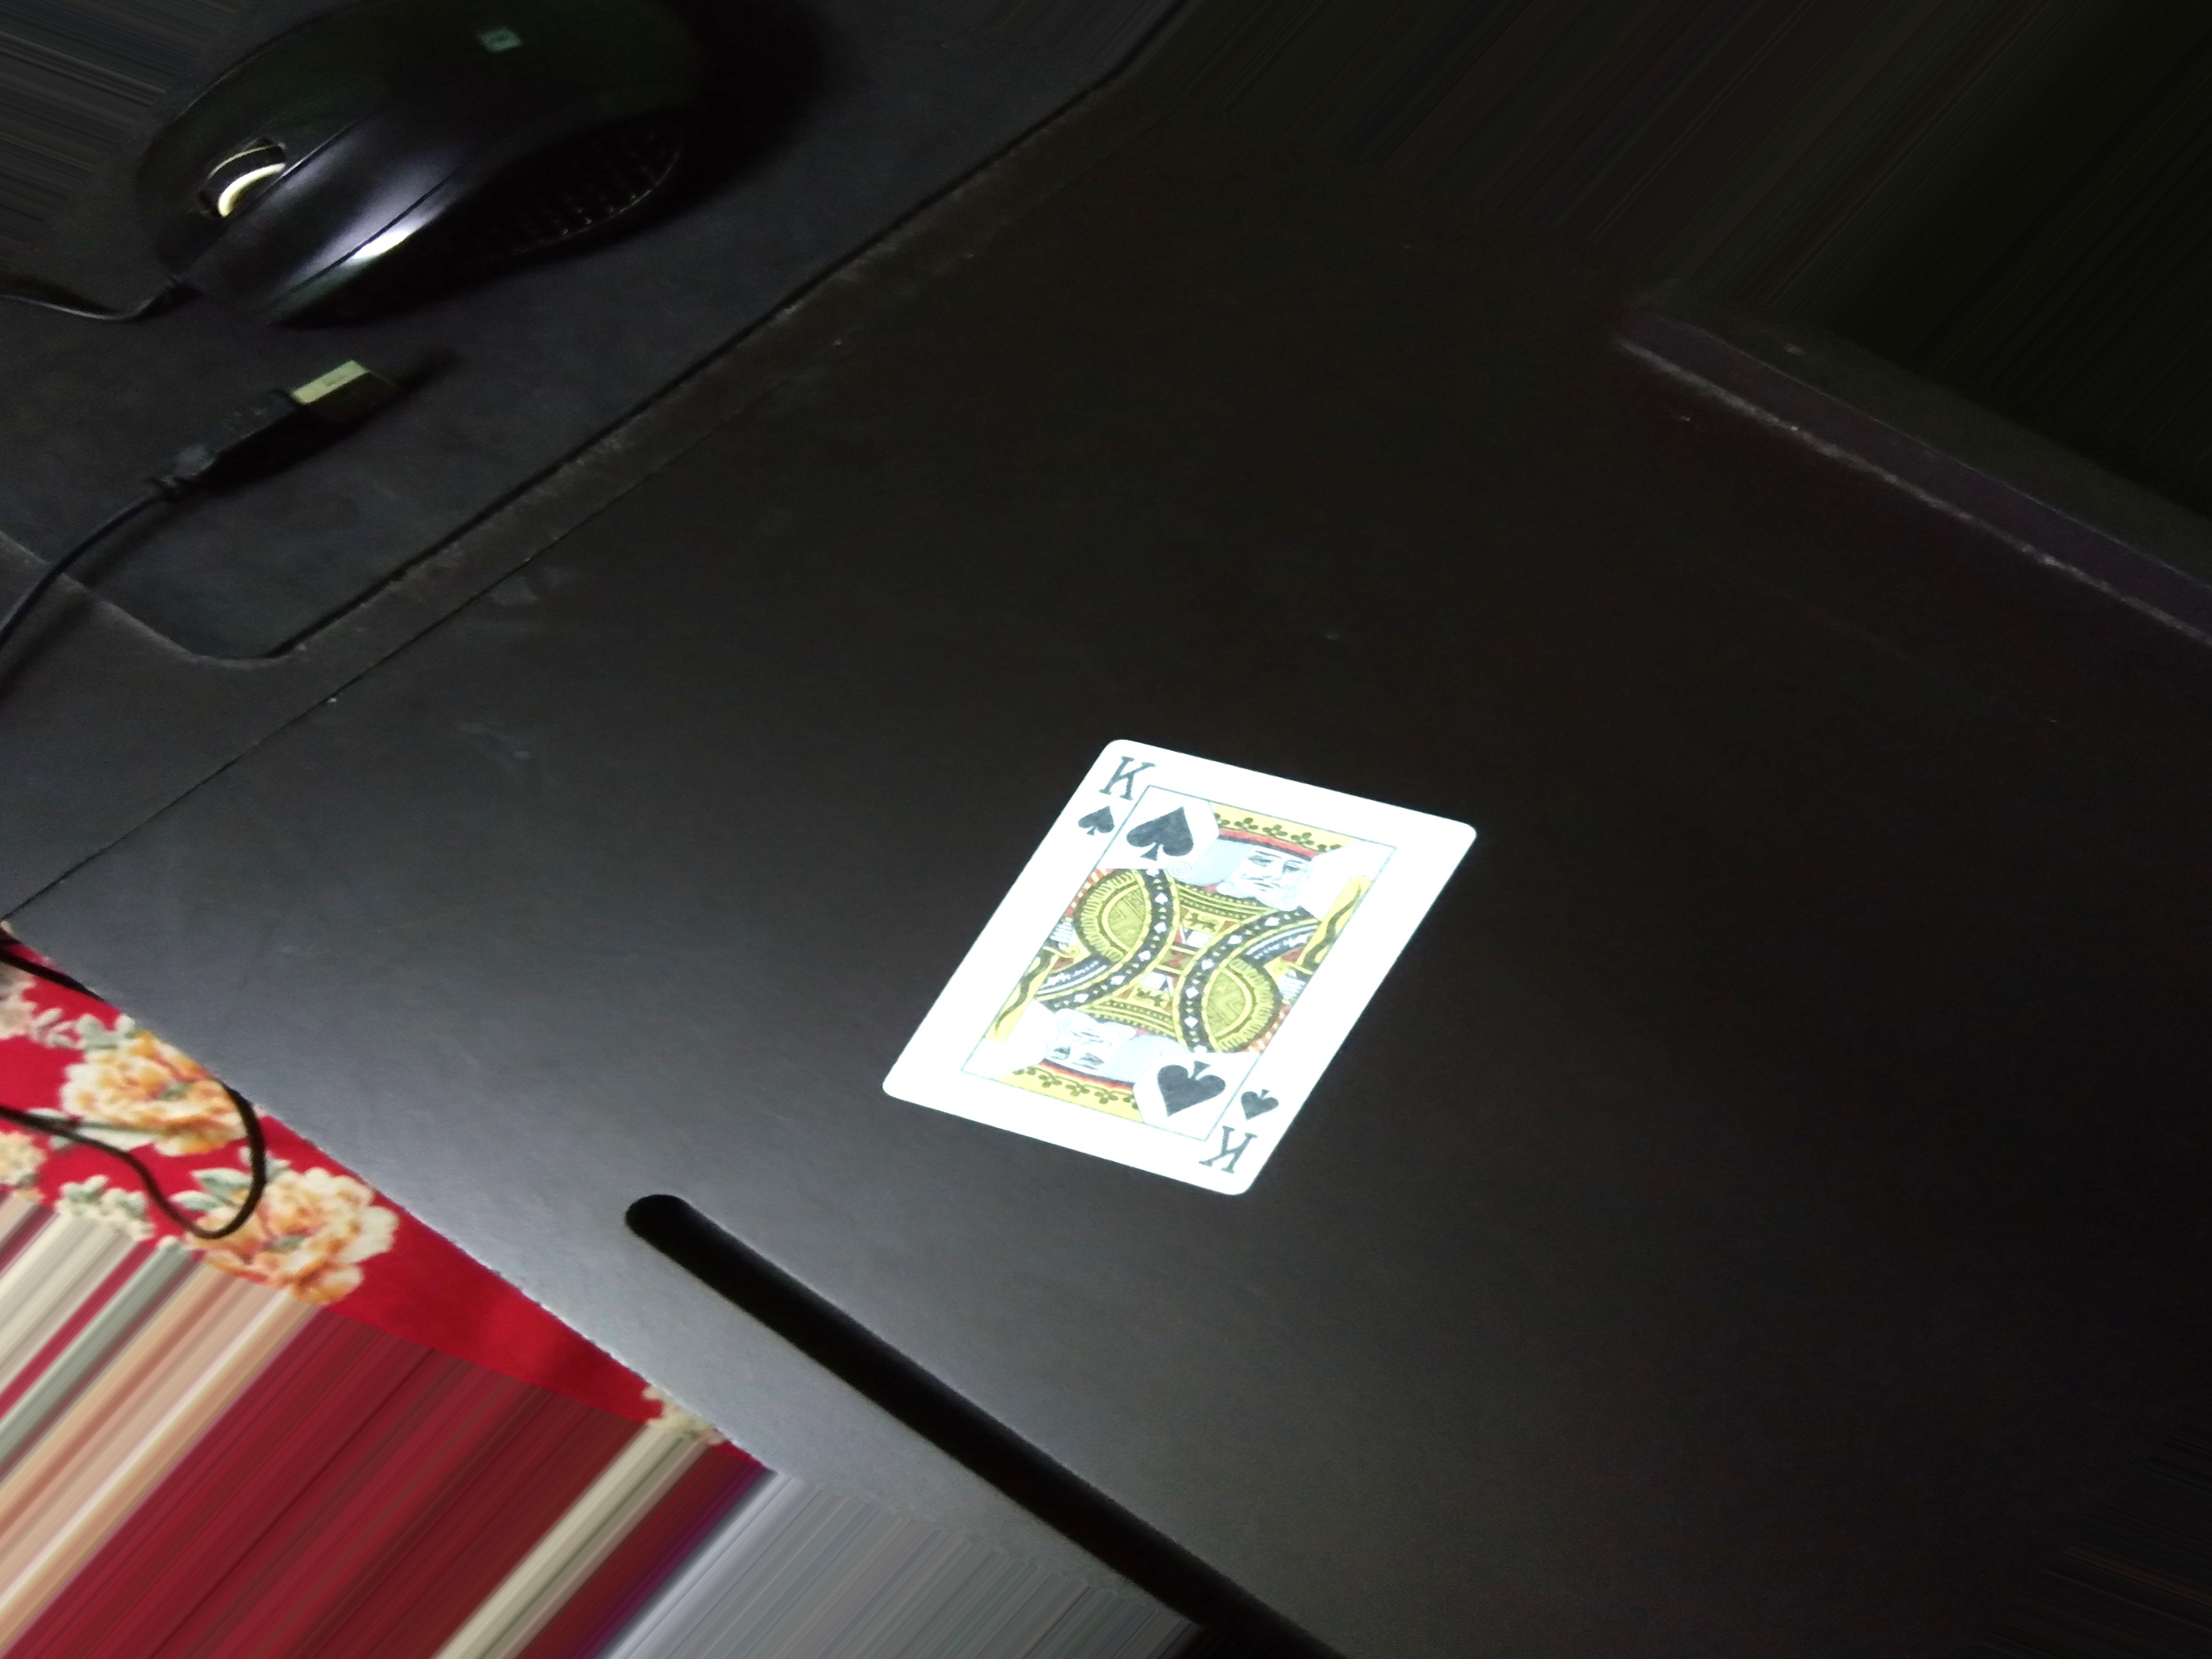KS: (1076, 741, 1158, 842)
